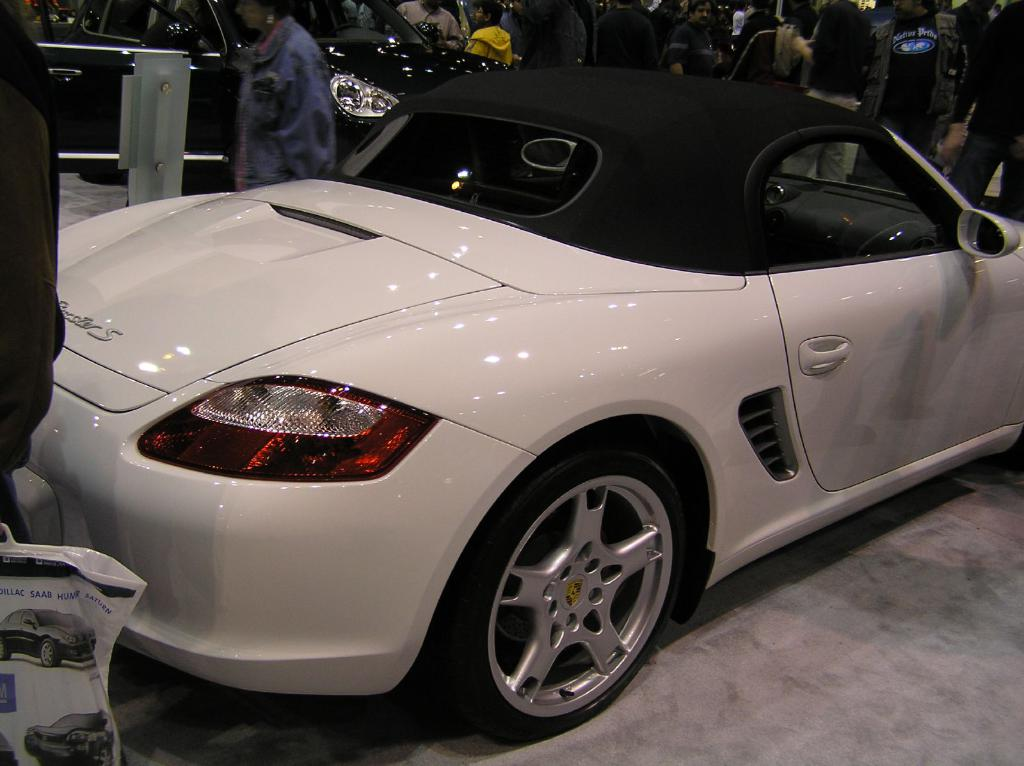person: (592, 0, 661, 71)
